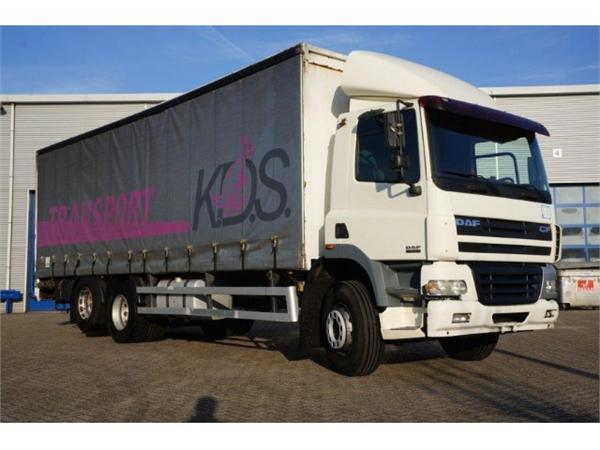truck: (34, 44, 561, 377)
